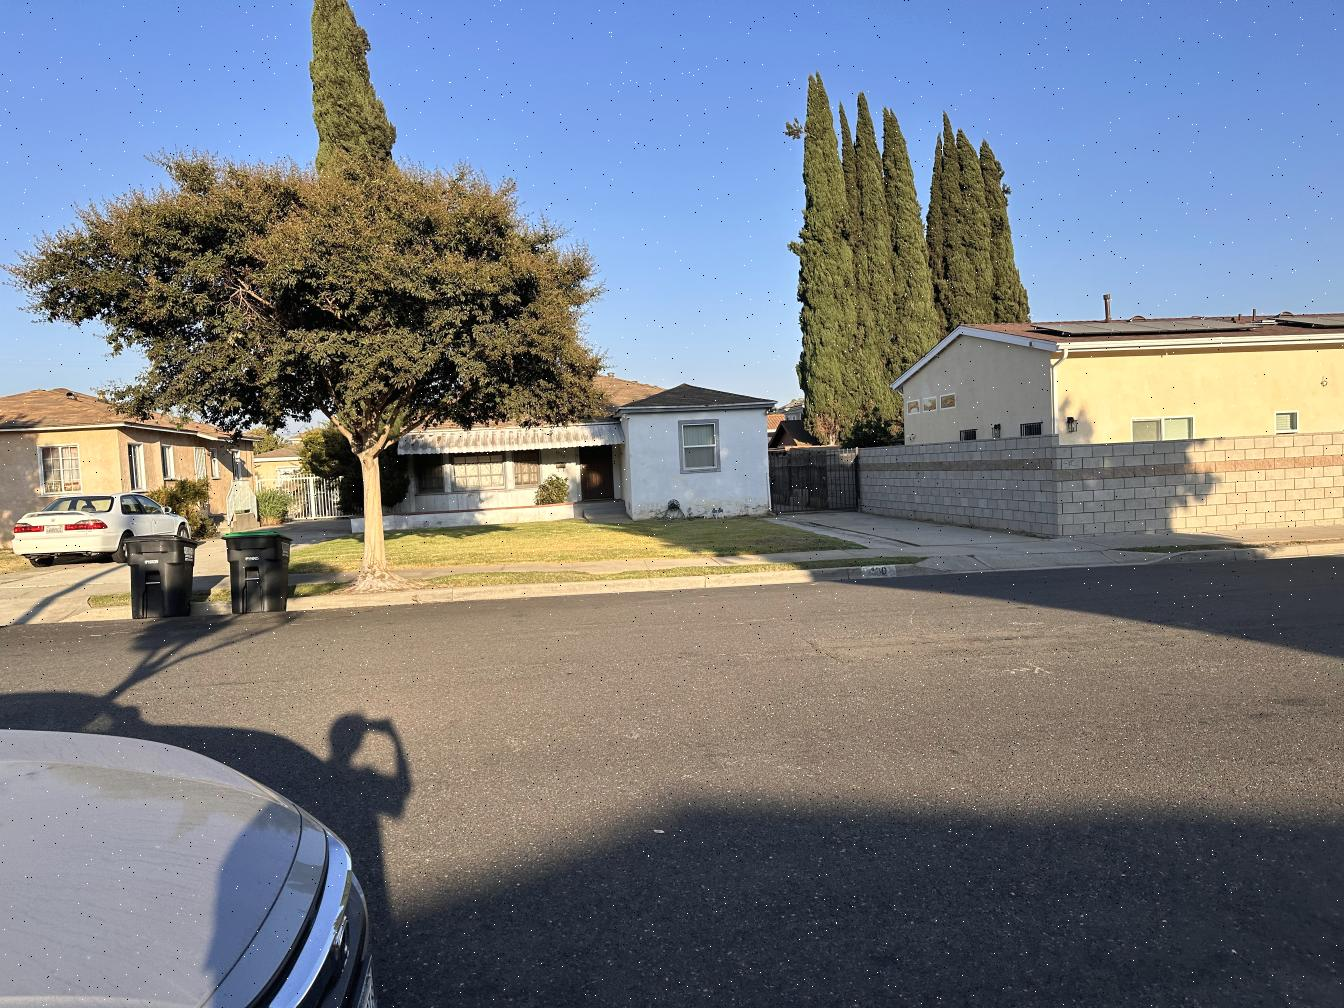curbs-laRr: (302, 583, 505, 611), (706, 561, 905, 589), (507, 576, 701, 600), (1188, 541, 1340, 569)
